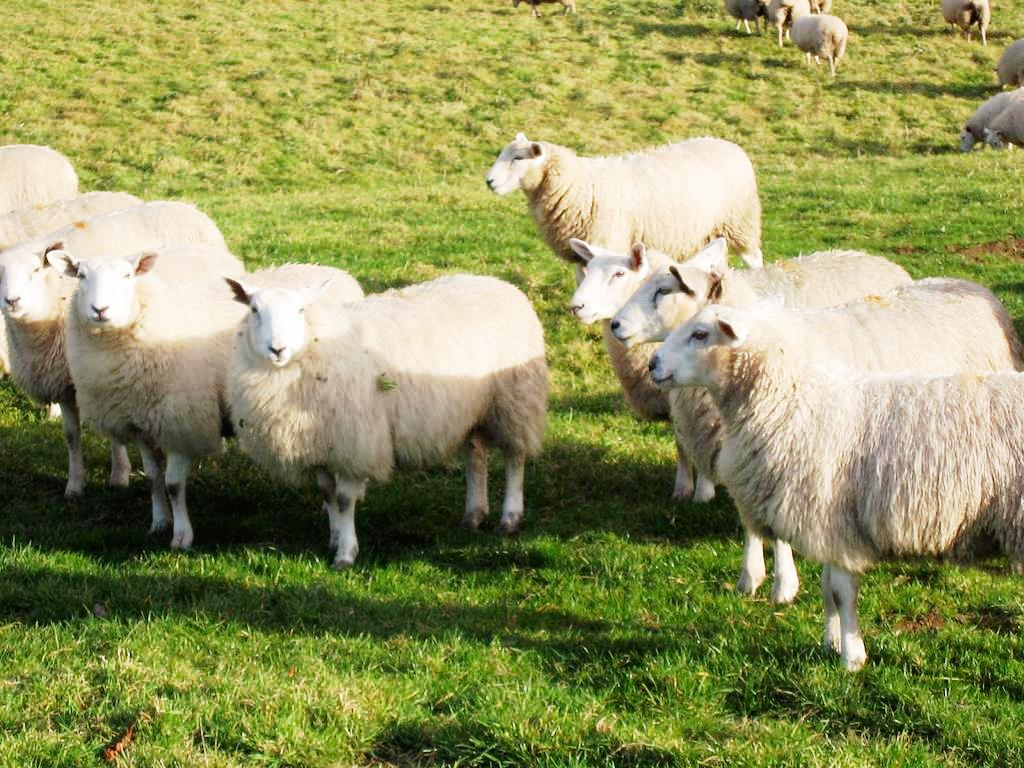Sheep: (649, 262, 1024, 679), (612, 239, 1018, 522), (49, 245, 387, 555), (555, 229, 946, 479), (222, 273, 549, 571), (0, 202, 241, 498), (482, 129, 772, 281), (0, 177, 158, 276), (0, 129, 86, 226), (946, 90, 1024, 151), (787, 10, 849, 75), (984, 96, 1024, 157), (765, 0, 814, 47), (716, 0, 772, 40), (938, 0, 995, 39)
